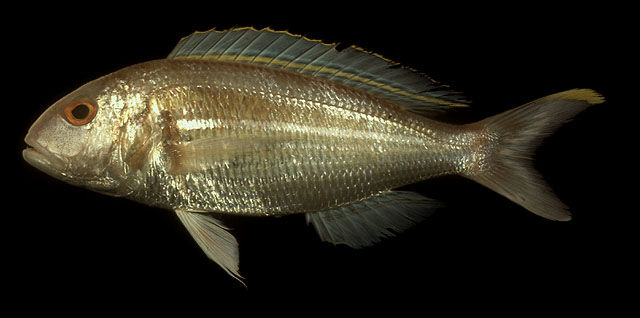fish: (22, 25, 605, 288)
